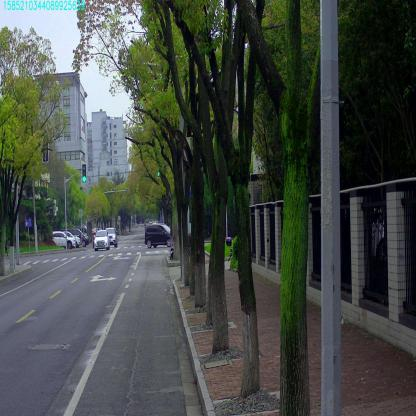traffic-light: (82, 164, 86, 182), (157, 168, 160, 177)
